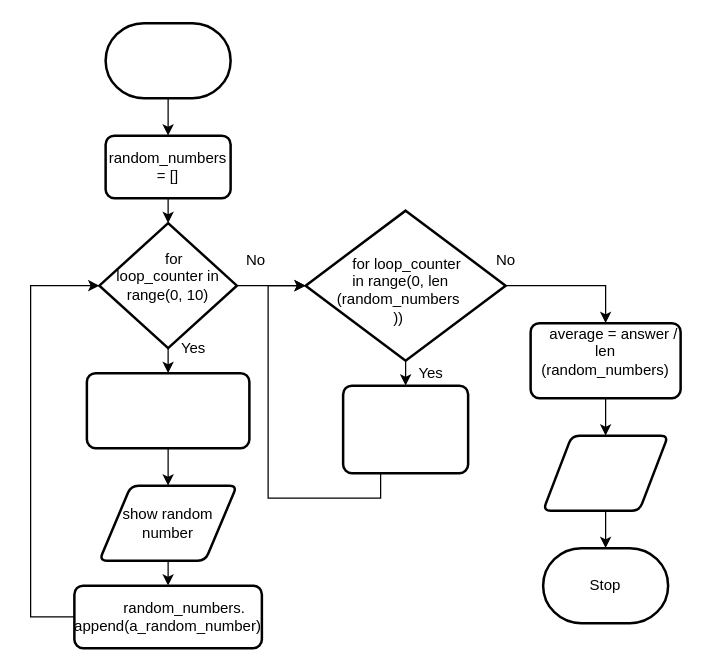
Some shapes in this 704 by 670 pixel diagram are drawn without their labels. The centre of each missing label's shape, as x and y in pixels:
"a_random_number = random.randint(1, 100)" goes at point 167,410.
"answer = answer + random_numbers [loop_counter]" goes at point 405,429.
"Show average" goes at point 605,472.
"Start" goes at point 167,60.
